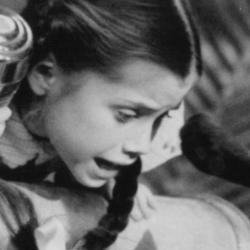face: (12, 1, 195, 202)
